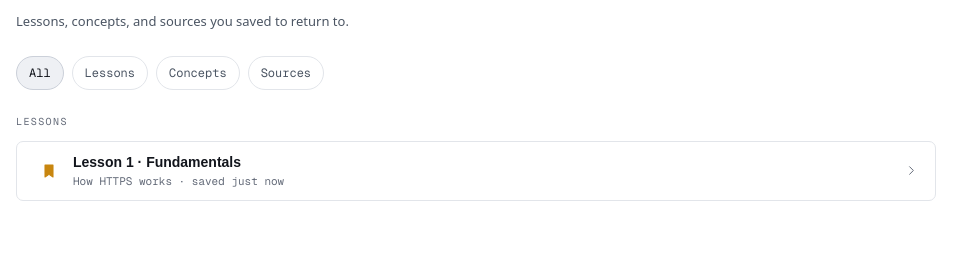
Scenario: BookmarksScreen › each row keeps its remove affordance — the leading glyph is the toggle
// Act — the accent glyph un-saves right here.
Step 1. Click the button named "remove bookmark" → x=49, y=170, box [33, 154, 65, 186]
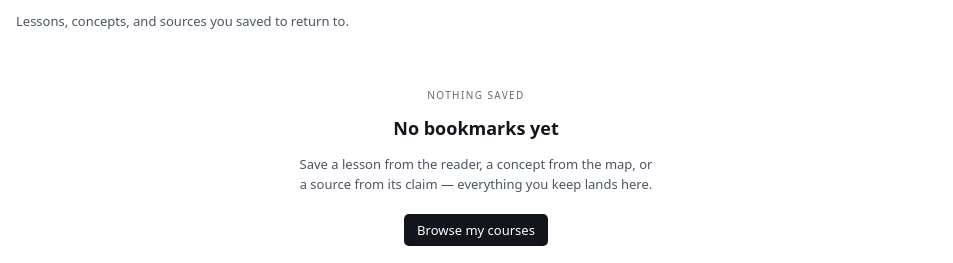
Check: the heading "No bookmarks yet" is shown, box [393, 114, 559, 142]
